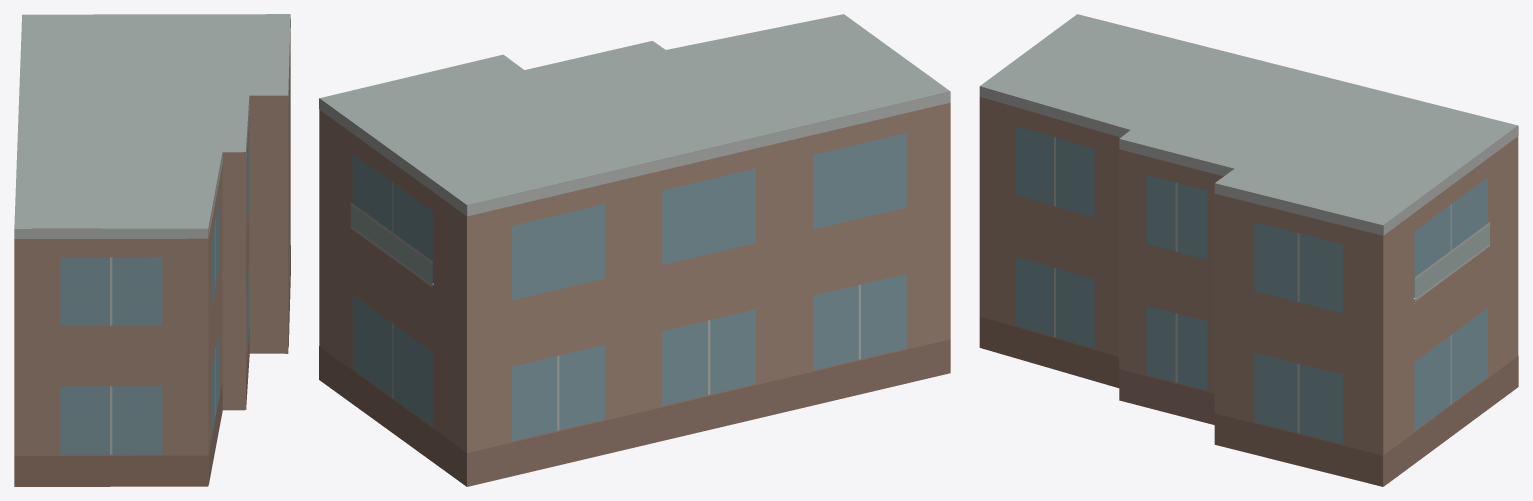
The model's file is survey-upis-32797634.glb.
3 renders of one model, left to right at view 1: azimuth 30°, elevation 25°; view 2: azimuth 150°, elevation 25°; view 3: azimuth 270°, elevation 25°, orthographic. The views are drawn at different scales.
Parts seen in each view (by area): view 1: survey-upis-32797634.tmp; view 2: survey-upis-32797634.tmp; view 3: survey-upis-32797634.tmp.
Part boxes in pixels (left/top/right/bottom): survey-upis-32797634.tmp: left=14, top=14, right=290, bottom=486; survey-upis-32797634.tmp: left=319, top=14, right=950, bottom=486; survey-upis-32797634.tmp: left=979, top=14, right=1518, bottom=486.
Bounding box in the file's own units: 10.58 × 6.1 × 11.4.
